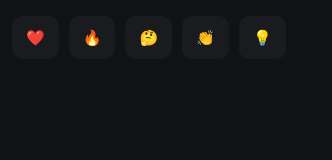
it: Reactions › sends reaction on click and disables button
Check: the text "❤️" is shown, box [26,26,45,48]
Note: Click the heart button
Click the button "❤️" at (35, 37), box [12,16,59,58]
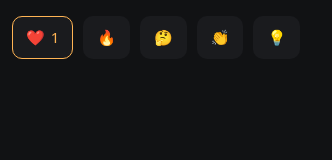
Check: the button "❤️ 1" is disabled, box [12,16,73,58]
